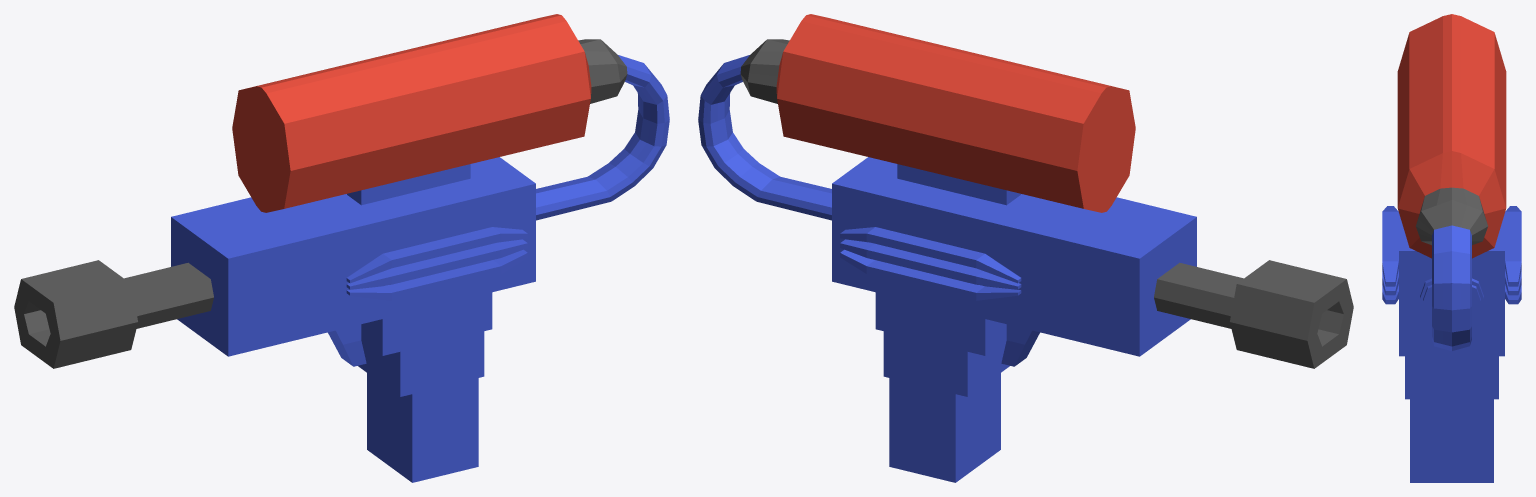
The model's file is maçarico.fbx.
3 views of the same model, side by side, from view 1: azimuth 30°, elevation 25°; view 2: azimuth 150°, elevation 25°; view 3: azimuth 270°, elevation 25° (orthographic). The views are drawn at different scales.
Parts seen in each view (by area): view 1: Cube; view 2: Cube; view 3: Cube.
Boxes of the visible parts, left/top/right/bottom form: Cube: left=14, top=14, right=669, bottom=482; Cube: left=698, top=14, right=1353, bottom=482; Cube: left=1382, top=14, right=1521, bottom=482.
Size of the model in its own units: 166 by 104 by 34.47.
